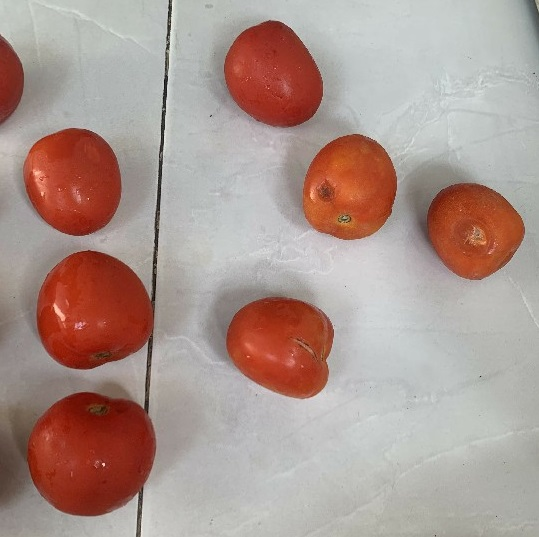NG: (223, 290, 334, 404), (303, 126, 397, 246), (422, 180, 527, 286)
OK: (28, 391, 166, 517), (32, 246, 159, 372), (22, 123, 126, 237), (224, 17, 324, 130)
